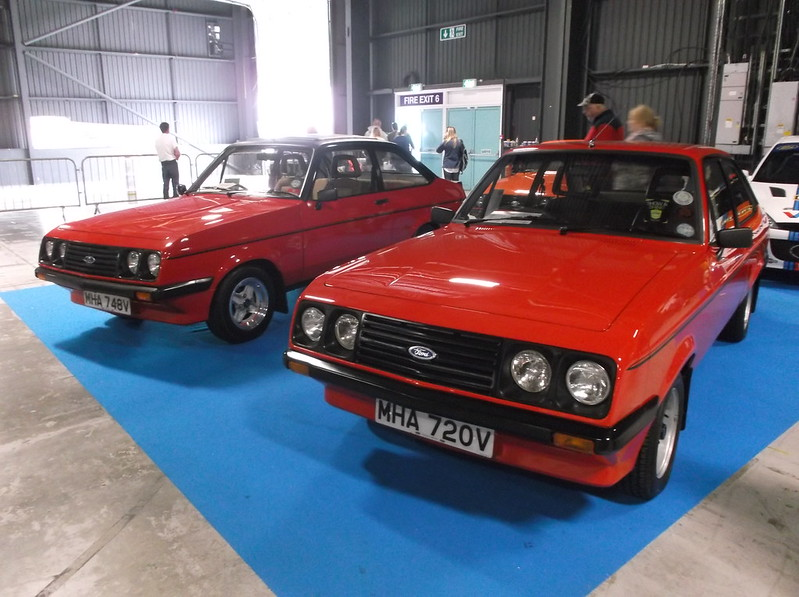number_plate: (371, 392, 510, 466), (78, 286, 144, 321)
